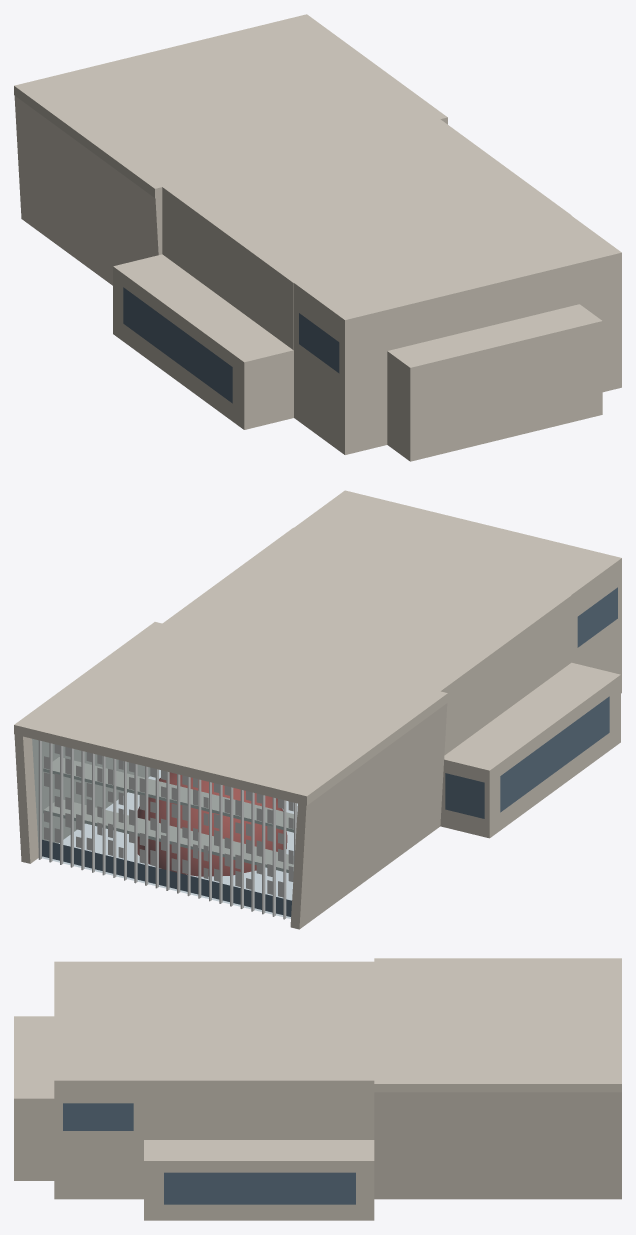
File: istanbul-ataturk-cultural-center.glb
3 views of the same model, one above another, from view 1: azimuth 30°, elevation 25°; view 2: azimuth 150°, elevation 25°; view 3: azimuth 270°, elevation 25° (orthographic). The views are drawn at different scales.
Visible parts, largest first — view 1: Atatürk Cultural Center; view 2: Atatürk Cultural Center; view 3: Atatürk Cultural Center.
Part boxes in pixels (left/top/right/bottom): Atatürk Cultural Center: left=14, top=14, right=621, bottom=461; Atatürk Cultural Center: left=14, top=490, right=621, bottom=929; Atatürk Cultural Center: left=14, top=958, right=621, bottom=1220.
Size of the model in its own units: 75.7 by 25.9 by 120.
